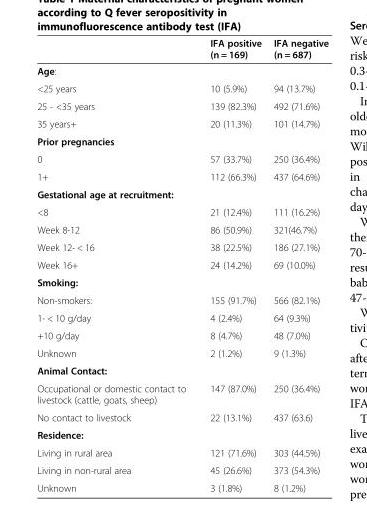table: (36, 36, 327, 493)
table column: (36, 36, 197, 493), (197, 36, 266, 493), (266, 36, 327, 493)
table column header: (36, 36, 327, 62)
table projected row header: (36, 273, 327, 291), (36, 361, 327, 379), (36, 425, 327, 443), (36, 62, 327, 79), (36, 132, 327, 149), (36, 185, 327, 202)
table row: (36, 379, 327, 408), (36, 36, 327, 62), (36, 79, 327, 97), (36, 114, 327, 132), (36, 149, 327, 167), (36, 167, 327, 185), (36, 202, 327, 220), (36, 220, 327, 238), (36, 255, 327, 273), (36, 273, 327, 291), (36, 308, 327, 326), (36, 326, 327, 344), (36, 361, 327, 379), (36, 425, 327, 443), (36, 443, 327, 461), (36, 62, 327, 79), (36, 97, 327, 114), (36, 132, 327, 149), (36, 185, 327, 202), (36, 238, 327, 255), (36, 291, 327, 308), (36, 344, 327, 361), (36, 408, 327, 425), (36, 461, 327, 478), (36, 478, 327, 493)
